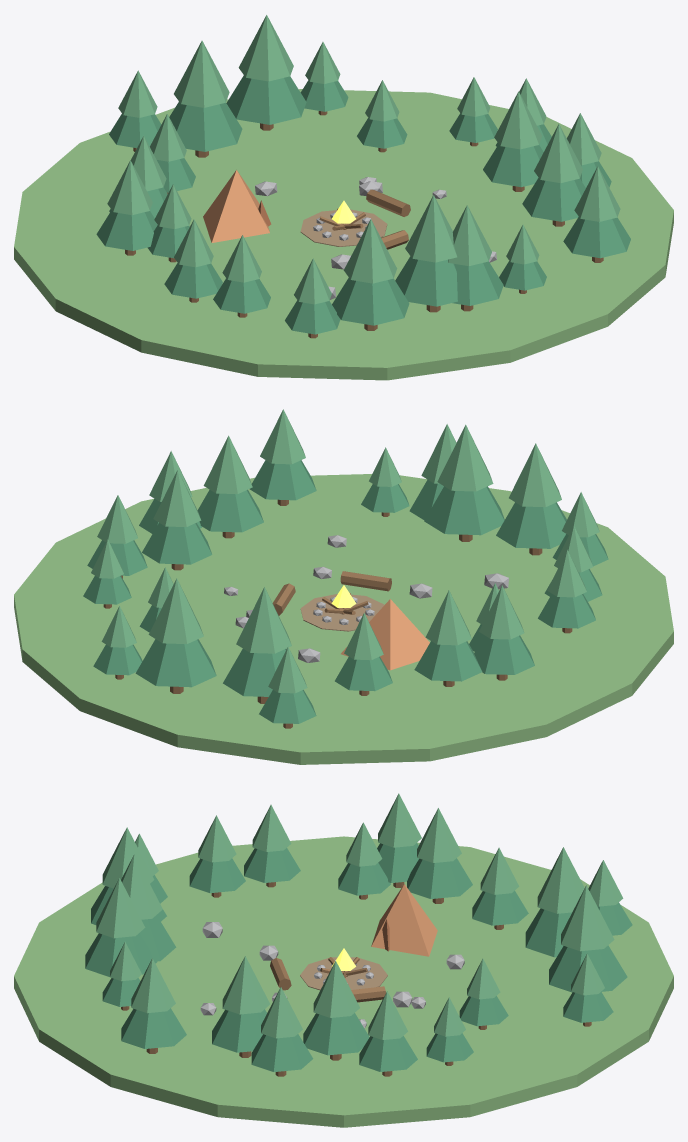
The model's file is campfire_scene.glb.
3 renders of one model, top to bottom at view 1: azimuth 30°, elevation 25°; view 2: azimuth 150°, elevation 25°; view 3: azimuth 270°, elevation 25°, orthographic.
Visible parts, largest first — view 1: Cylinder, Cone.014, Cone, Cone.034, Cone.016, Cone.036, Cone.017, Cone.015, Cone.042, Cone.037, Cone.044, Cone.035 (+33 smaller); view 2: Cylinder, Cone.036, Cone.014, Cone.034, Cone, Cone.044, Cone.004, Cone.037, Cone.017, Cone.015, Cone.022, Cone.042 (+31 smaller); view 3: Cylinder, Cone, Cone.004, Cone.014, Cone.015, Cone.022, Cone.042, Cone.017, Cone.046, Cone.038, Cone.044, Cone.039 (+32 smaller).
Part boxes in pixels (x1,y1,x2,y2): Cylinder: [14, 89, 673, 380]; Cone.014: [226, 75, 306, 124]; Cone: [203, 170, 269, 242]; Cone.034: [332, 277, 409, 325]; Cone.016: [169, 102, 242, 151]; Cone.036: [395, 256, 457, 306]; Cone.017: [174, 40, 229, 107]; Cone.015: [238, 15, 293, 81]; Cone.042: [563, 217, 630, 258]; Cone.037: [405, 195, 457, 262]; Cone.044: [522, 177, 585, 221]; Cone.035: [343, 219, 397, 283]; Cylinder: [14, 474, 673, 764]; Cone.036: [424, 486, 504, 535]; Cone.014: [135, 639, 216, 687]; Cone.034: [496, 502, 566, 548]; Cone: [341, 599, 429, 670]; Cone.044: [197, 489, 263, 532]; Cone.004: [142, 523, 212, 564]; Cone.037: [437, 424, 493, 491]; Cone.017: [236, 587, 291, 653]; Cone.015: [148, 578, 203, 643]; Cone.022: [414, 641, 482, 681]; Cone.042: [249, 460, 316, 500]; Cylinder: [14, 836, 673, 1127]; Cone: [371, 884, 437, 956]; Cone.004: [303, 1013, 369, 1055]; Cone.014: [549, 945, 627, 992]; Cone.015: [561, 885, 614, 951]; Cone.022: [407, 858, 472, 898]; Cone.042: [121, 1008, 186, 1048]; Cone.017: [537, 847, 584, 913]; Cone.046: [251, 1034, 313, 1071]; Cone.038: [85, 933, 156, 976]; Cone.044: [212, 1009, 266, 1052]; Cone.039: [96, 878, 145, 938].
Size of the model in its own units: 24 by 5.08 by 24.
